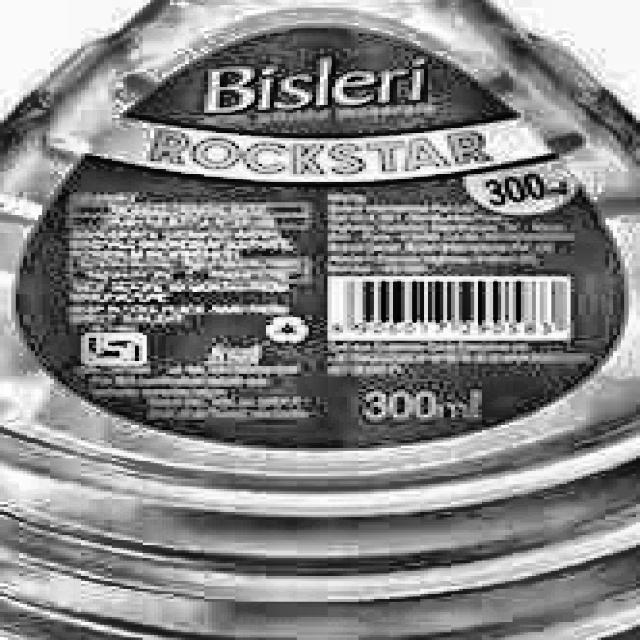bottle: (0, 0, 640, 640)
